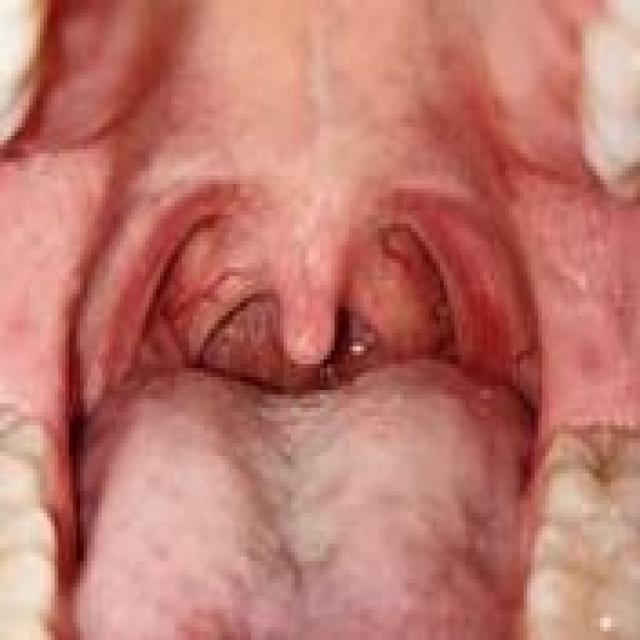Non Pharyngitis: (90, 171, 364, 411), (447, 187, 640, 417)
